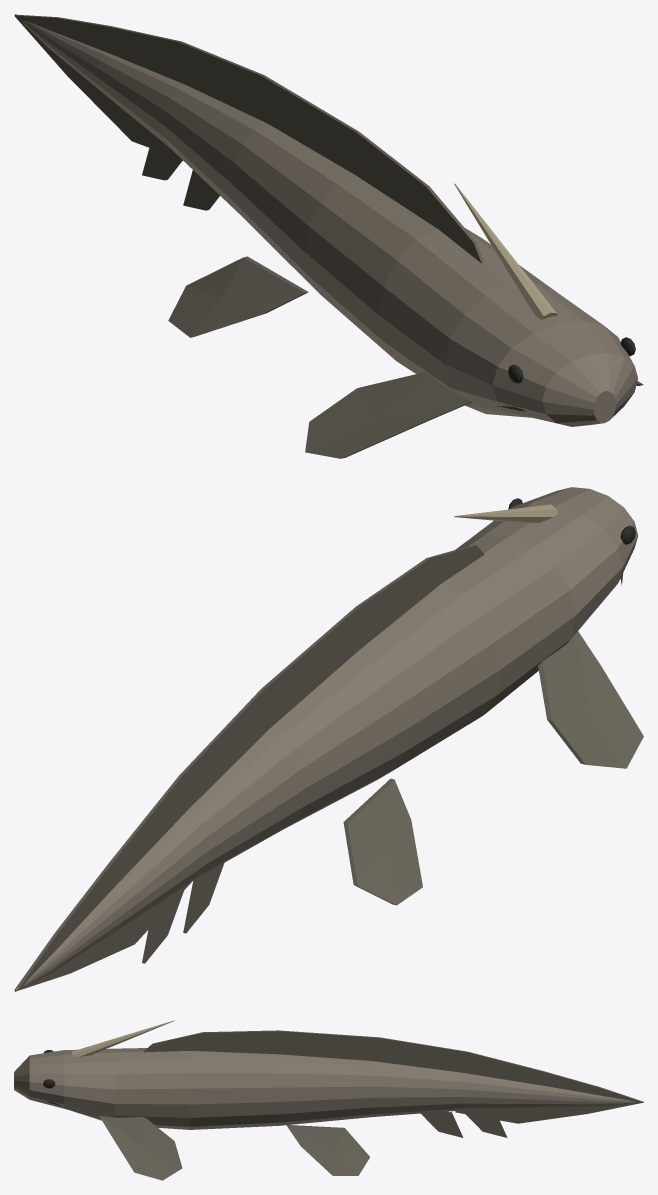
The picture shows the model from 3 angles, top to bottom: view 1: azimuth 30°, elevation 25°; view 2: azimuth 150°, elevation 25°; view 3: azimuth 270°, elevation 25°; orthographic projection. The views are drawn at different scales.
Parts seen in each view (by area): view 1: surface_body_grey_brown, surface_fins_dark_taupe, surface_cranial_spine; view 2: surface_body_grey_brown, surface_fins_dark_taupe, surface_cranial_spine; view 3: surface_body_grey_brown, surface_fins_dark_taupe, surface_cranial_spine.
Part boxes in pixels (box(x1,y1,x2,y2)): surface_body_grey_brown: box(15, 14, 637, 426); surface_fins_dark_taupe: box(14, 14, 643, 458); surface_cranial_spine: box(454, 183, 557, 319); surface_body_grey_brown: box(15, 487, 637, 991); surface_fins_dark_taupe: box(14, 545, 643, 990); surface_cranial_spine: box(454, 504, 557, 523); surface_body_grey_brown: box(14, 1048, 643, 1129); surface_fins_dark_taupe: box(99, 1030, 643, 1180); surface_cranial_spine: box(72, 1020, 174, 1056).
Size of the model in its own units: 0.315 by 0.2205 by 1.
